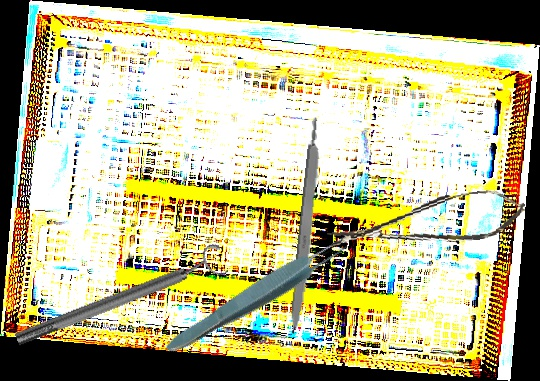Fixation Ring: (9, 241, 231, 355)
Micro Scissor: (323, 185, 529, 259)
Scalpel Handle: (288, 116, 326, 335)
Tissue Forceps: (160, 227, 360, 362)
